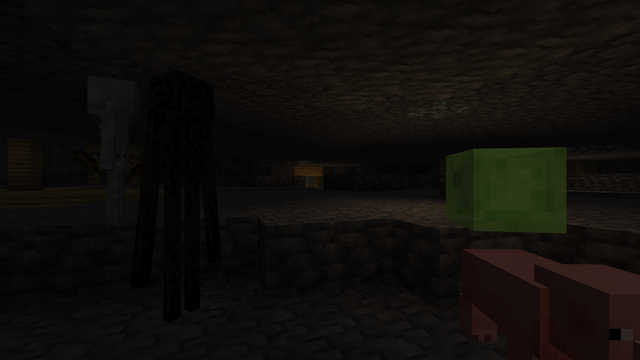cochons: (447, 245, 630, 359)
endermens: (146, 59, 210, 331)
slimes: (437, 142, 565, 234)
squelettes: (78, 74, 136, 227)
